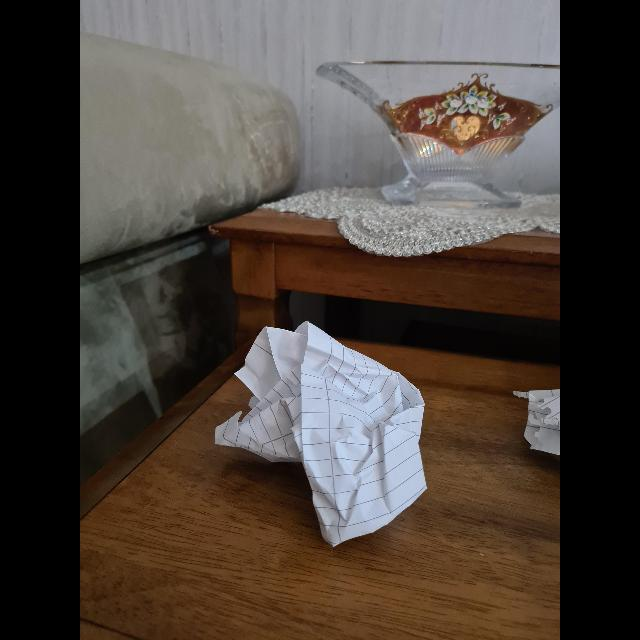scrap_paper: (217, 318, 427, 544)
